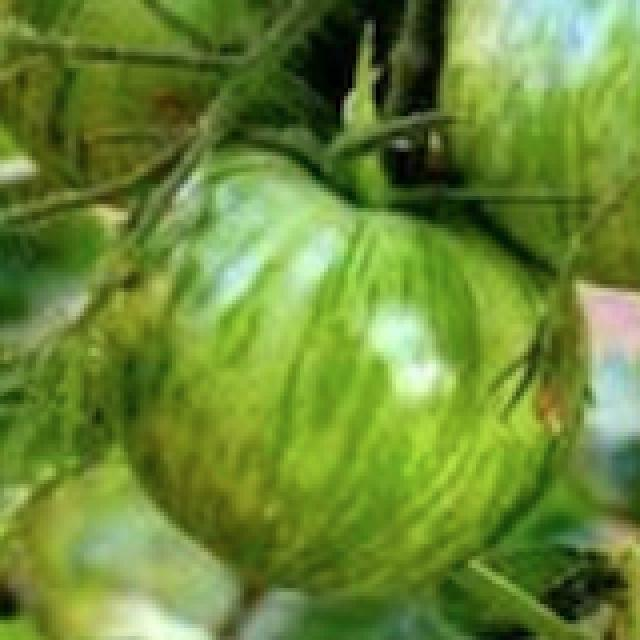yesil: (102, 127, 593, 578)
